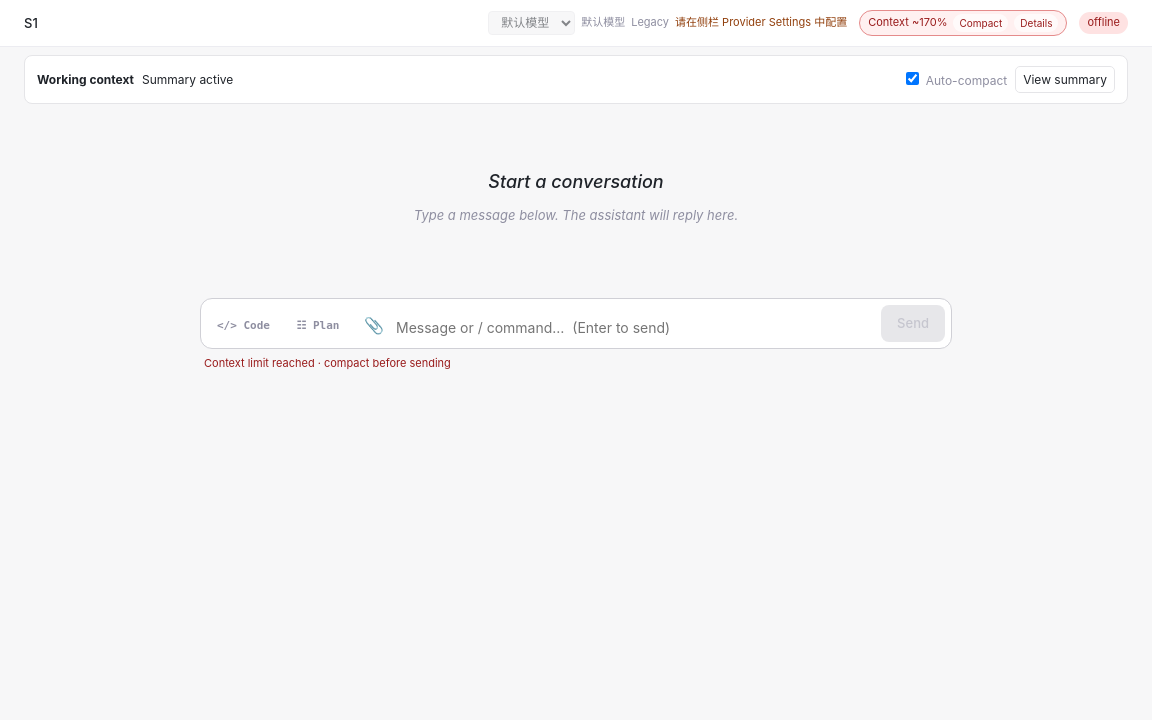
Test case: ChatPanel integration › compacts without replacing or reloading the original chat transcript
Click the button with test id "context-compact-button": (981,23) [953,14,1008,32]
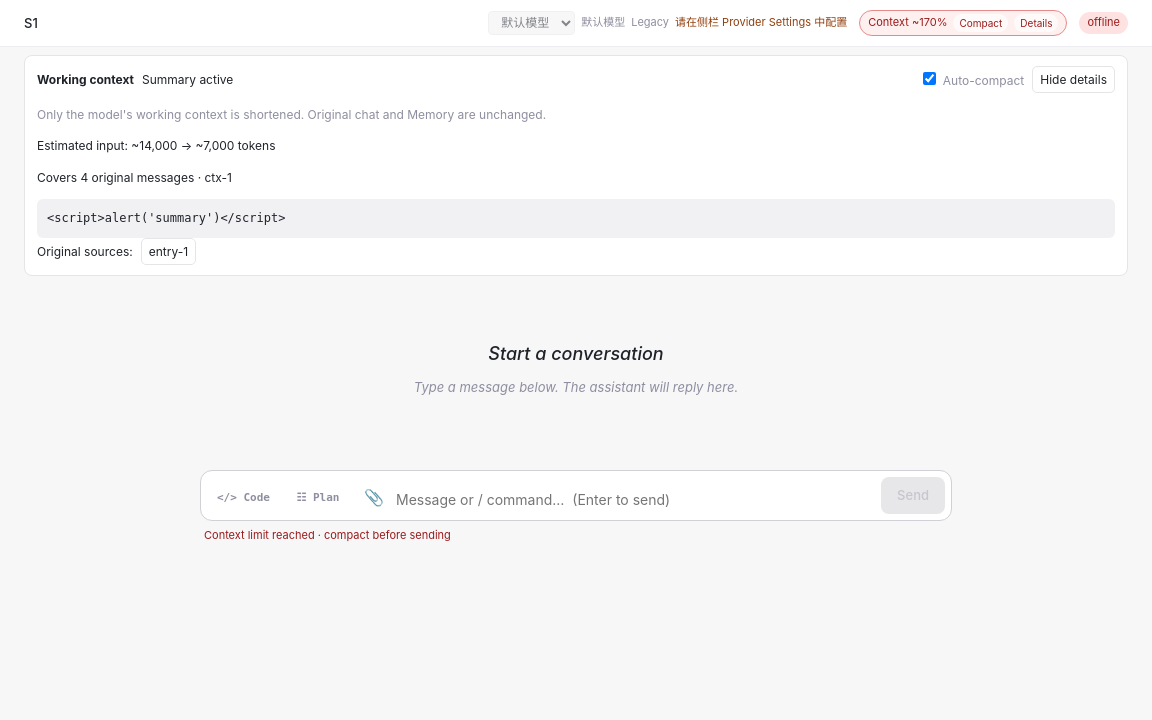
Now the text "<script>alert('summary')</script>" is shown, box [37,199,1115,238]
